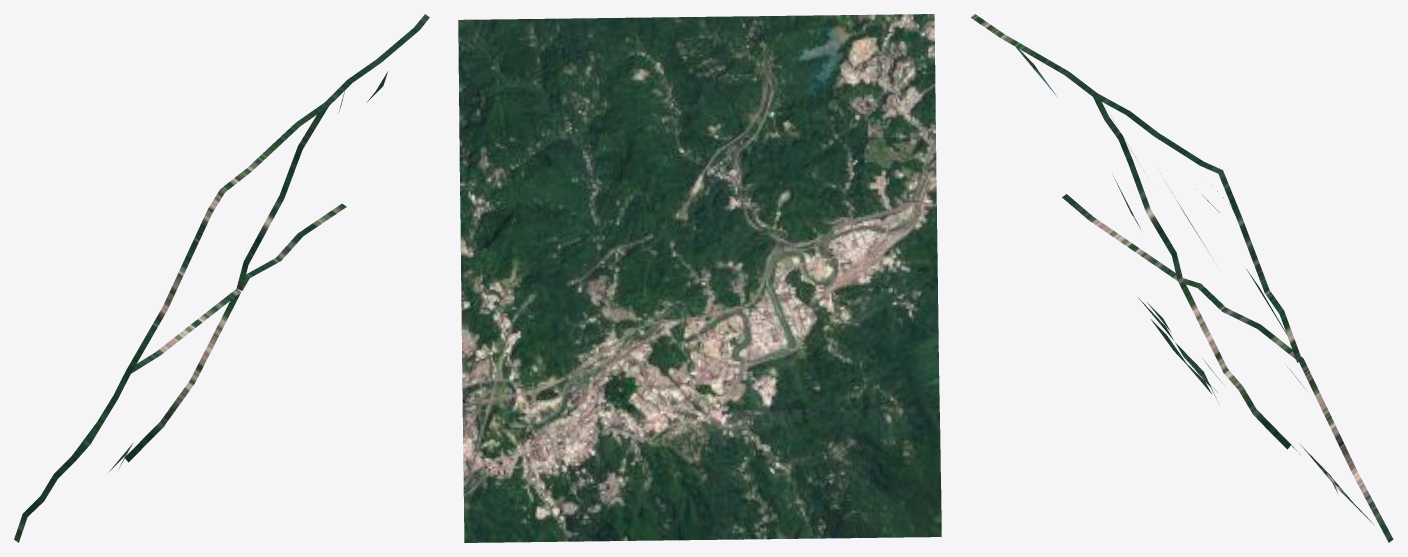
3 renders of one model, left to right at view 1: azimuth 30°, elevation 25°; view 2: azimuth 150°, elevation 25°; view 3: azimuth 270°, elevation 25°, orthographic. The views are drawn at different scales.
Bounding box in the file's own units: 9934 × 8994 × 8288.
1 material, 1 textured.
